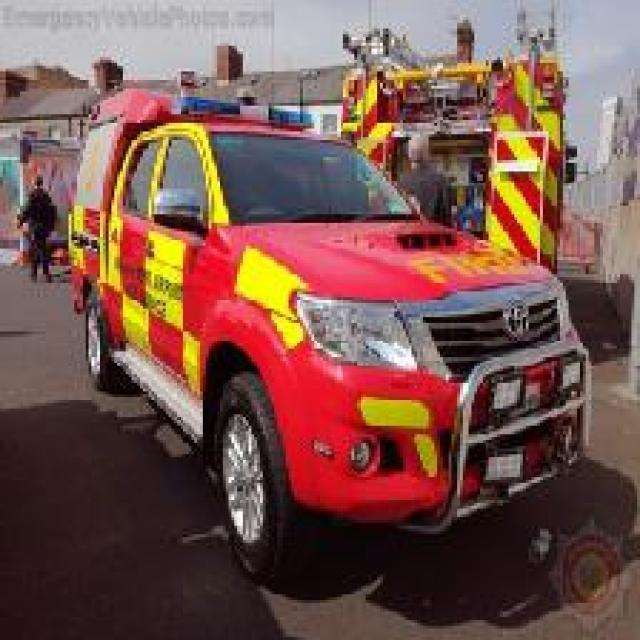emergency: (66, 86, 598, 588), (330, 47, 570, 376)
